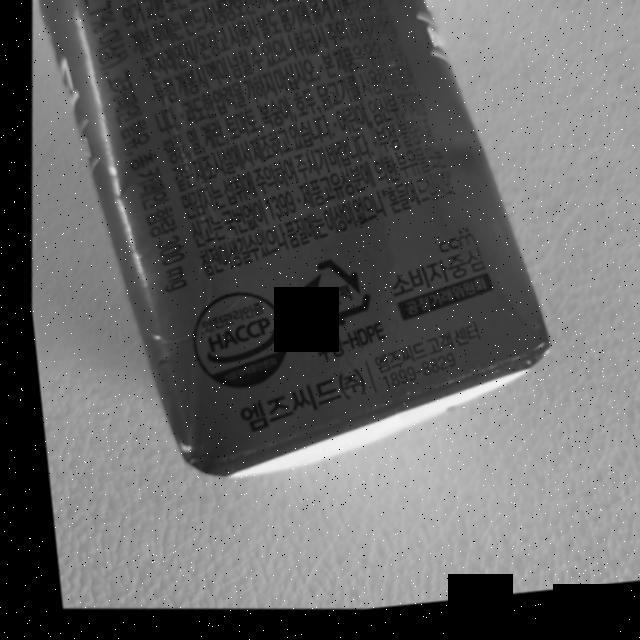SterilizedPack: (283, 253, 372, 343)
